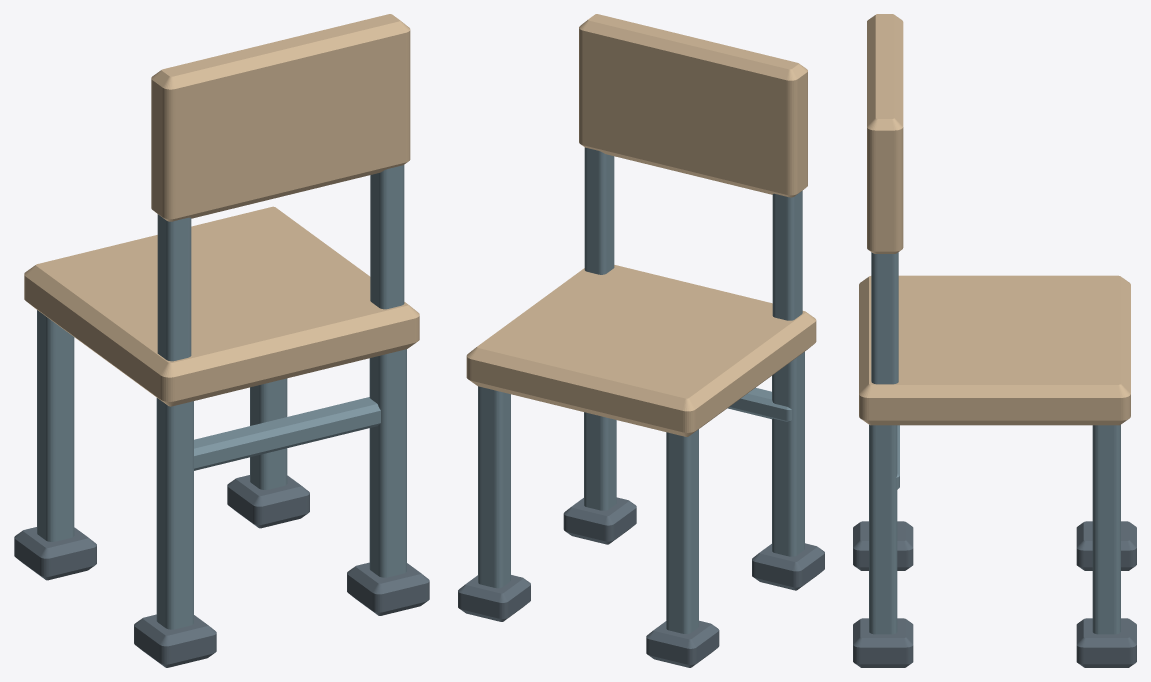
The model's file is classroom_chair.glb.
3 renders of one model, left to right at view 1: azimuth 30°, elevation 25°; view 2: azimuth 150°, elevation 25°; view 3: azimuth 270°, elevation 25°, orthographic. The views are drawn at different scales.
Visible parts, largest first — view 1: 008_seat, 011_upper_backrest, 002_chair_leg, 000_chair_leg, 006_chair_leg, 012_underseat_cross, 009_back_stem, 010_back_stem, 005_rubber_foot, 001_rubber_foot, 003_rubber_foot, 007_rubber_foot (+1 smaller); view 2: 008_seat, 011_upper_backrest, 000_chair_leg, 004_chair_leg, 002_chair_leg, 009_back_stem, 010_back_stem, 006_chair_leg, 007_rubber_foot, 001_rubber_foot, 003_rubber_foot, 005_rubber_foot (+1 smaller); view 3: 008_seat, 011_upper_backrest, 004_chair_leg, 006_chair_leg, 010_back_stem, 005_rubber_foot, 007_rubber_foot, 001_rubber_foot, 003_rubber_foot.
Boxes of the visible parts, left/top/right/bottom form: 008_seat: left=24, top=206, right=419, bottom=406; 011_upper_backrest: left=151, top=14, right=410, bottom=221; 002_chair_leg: left=156, top=398, right=193, bottom=629; 000_chair_leg: left=37, top=310, right=74, bottom=541; 006_chair_leg: left=369, top=349, right=406, bottom=577; 012_underseat_cross: left=194, top=397, right=380, bottom=470; 009_back_stem: left=157, top=214, right=191, bottom=361; 010_back_stem: left=370, top=165, right=404, bottom=309; 005_rubber_foot: left=227, top=475, right=309, bottom=528; 001_rubber_foot: left=14, top=527, right=96, bottom=580; 003_rubber_foot: left=134, top=614, right=216, bottom=667; 007_rubber_foot: left=347, top=562, right=429, bottom=615; 008_seat: left=466, top=265, right=816, bottom=436; 011_upper_backrest: left=579, top=14, right=807, bottom=197; 000_chair_leg: left=666, top=429, right=698, bottom=633; 004_chair_leg: left=478, top=386, right=510, bottom=588; 002_chair_leg: left=772, top=352, right=804, bottom=556; 009_back_stem: left=772, top=191, right=802, bottom=320; 010_back_stem: left=584, top=147, right=614, bottom=274; 006_chair_leg: left=584, top=412, right=616, bottom=510; 007_rubber_foot: left=563, top=497, right=636, bottom=544; 001_rubber_foot: left=646, top=620, right=719, bottom=667; 003_rubber_foot: left=752, top=543, right=824, bottom=590; 005_rubber_foot: left=458, top=575, right=530, bottom=621; 008_seat: left=859, top=275, right=1130, bottom=425; 011_upper_backrest: left=867, top=14, right=903, bottom=253; 004_chair_leg: left=1092, top=425, right=1120, bottom=634; 006_chair_leg: left=869, top=425, right=897, bottom=634; 010_back_stem: left=871, top=252, right=898, bottom=384; 005_rubber_foot: left=1076, top=618, right=1136, bottom=667; 007_rubber_foot: left=853, top=618, right=913, bottom=667; 001_rubber_foot: left=1076, top=521, right=1136, bottom=570; 003_rubber_foot: left=853, top=521, right=913, bottom=570.
Size of the model in its own units: 0.48 by 0.9925 by 0.47.
